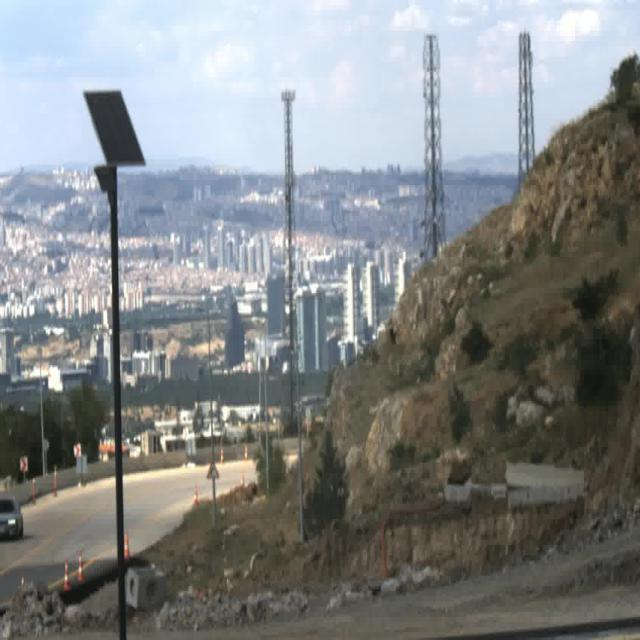Car: (0, 495, 23, 540)
